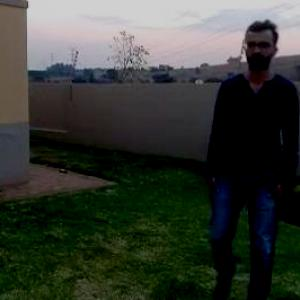follow: (195, 16, 281, 299)
